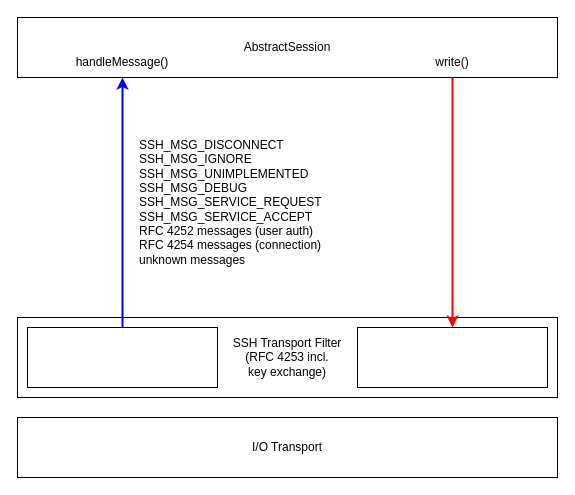
Image size: 575x495. Some labels were removed from this diagram. Here are the shapes that lost their labels. From the top down, the centre of each, then its label:
At (x=122, y=357): "If high-level msg: pass on else: handle and send reply".
At (x=452, y=357): "send on and transparently take care of low-level details".
